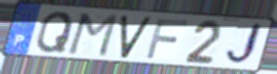2: (184, 18, 224, 66)
F: (144, 17, 191, 61)
J: (223, 21, 265, 68)
M: (65, 12, 121, 59)
Q: (34, 10, 76, 54)
V: (119, 15, 153, 60)
